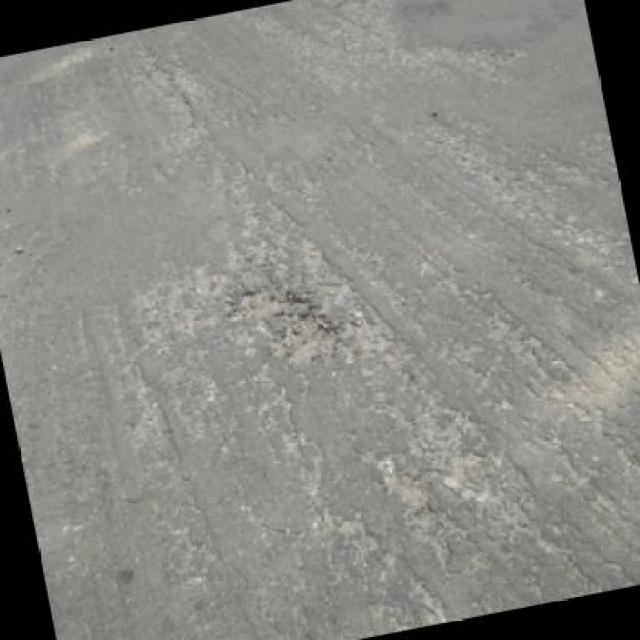pothole1: (219, 268, 347, 380)
